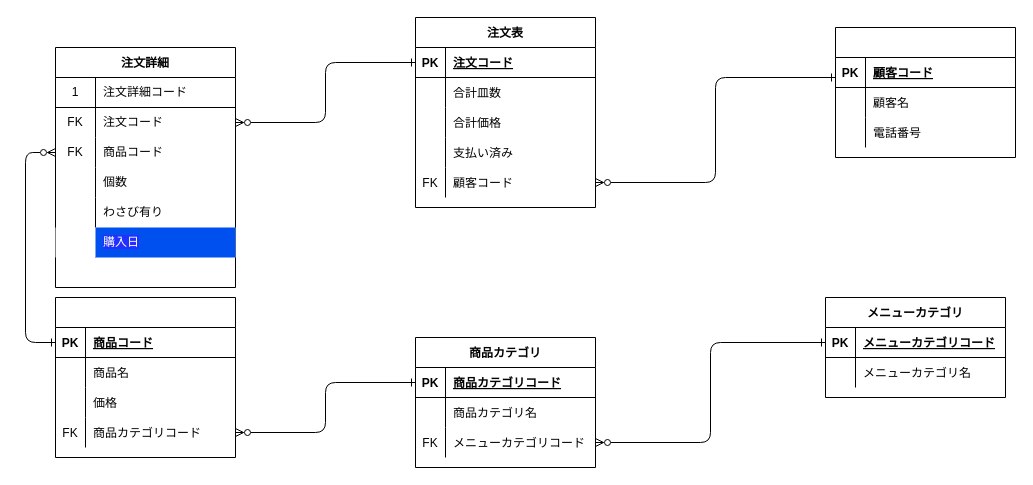
This 1033x485 diagram has some shape labels left out. Each missing label, with the box of its shape:
商品: (54, 296, 236, 458)
顧客: (834, 26, 1016, 158)
